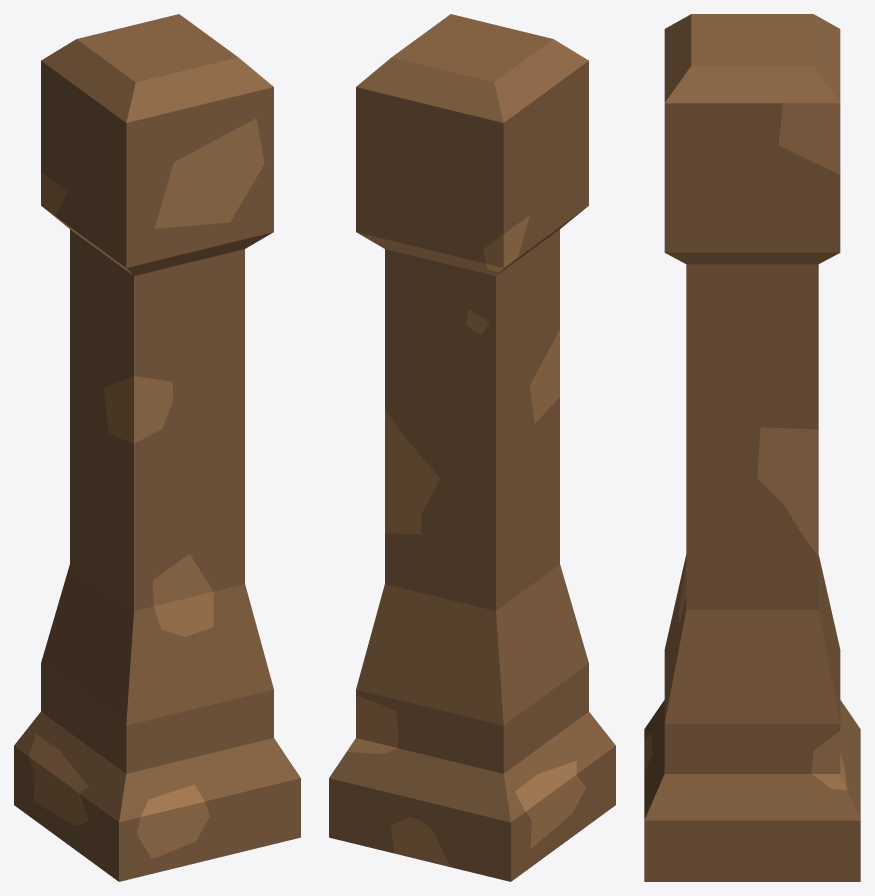
The model's file is Ruin_4_Light_Brown.fbx.
3 views of the same model, side by side, from view 1: azimuth 30°, elevation 25°; view 2: azimuth 150°, elevation 25°; view 3: azimuth 270°, elevation 25° (orthographic). The views are drawn at different scales.
Parts seen in each view (by area): view 1: Ruin_4_Light_Brown; view 2: Ruin_4_Light_Brown; view 3: Ruin_4_Light_Brown.
Boxes of the visible parts, x1=… form: Ruin_4_Light_Brown: x1=14, y1=14, x2=300, y2=881; Ruin_4_Light_Brown: x1=329, y1=14, x2=615, y2=881; Ruin_4_Light_Brown: x1=644, y1=14, x2=860, y2=881.
Bounding box in the file's own units: 98.48 × 400 × 98.48.
